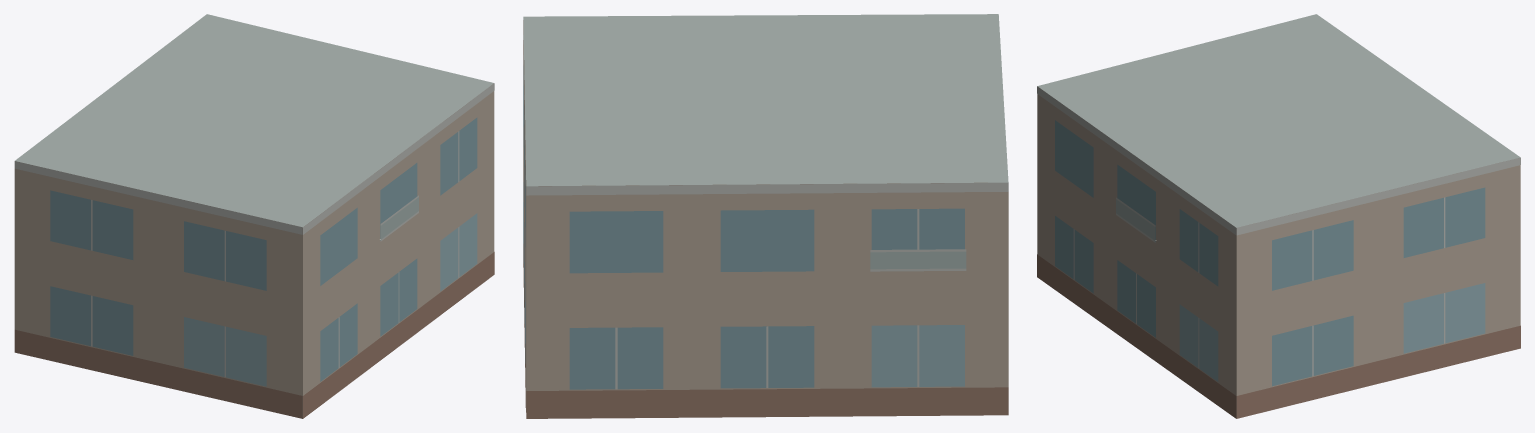
The model's file is survey-upis-32530641.glb.
The picture shows the model from 3 angles, left to right: view 1: azimuth 30°, elevation 25°; view 2: azimuth 150°, elevation 25°; view 3: azimuth 270°, elevation 25°; orthographic projection. The views are drawn at different scales.
Visible parts, largest first — view 1: survey-upis-32530641.tmp; view 2: survey-upis-32530641.tmp; view 3: survey-upis-32530641.tmp.
Boxes of the visible parts, <box> form: survey-upis-32530641.tmp: <box>14,14,494,418</box>; survey-upis-32530641.tmp: <box>523,14,1008,418</box>; survey-upis-32530641.tmp: <box>1037,14,1520,418</box>.
Bounding box in the file's own units: 14.66 × 6.1 × 14.01.
